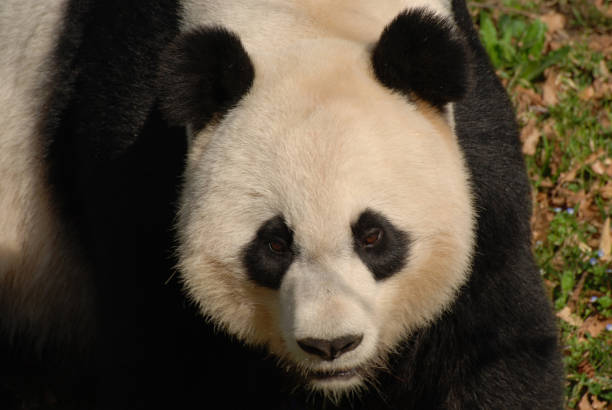panda: (127, 5, 527, 407)
